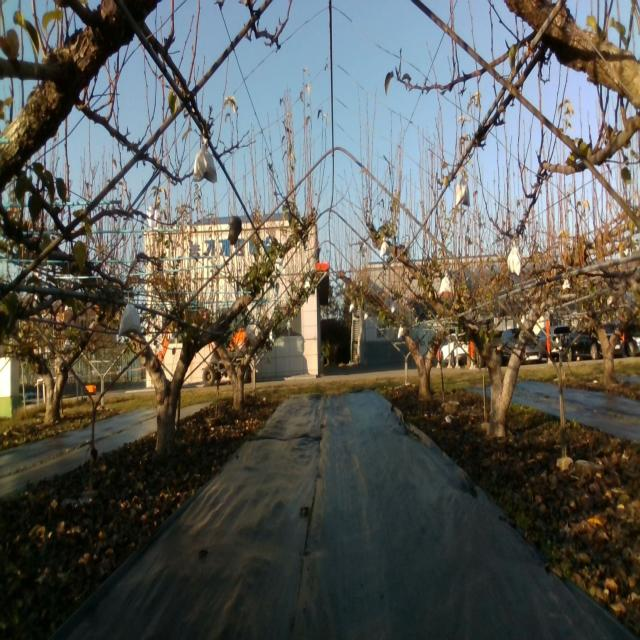pearbags: (193, 138, 218, 183), (116, 299, 142, 340), (456, 175, 470, 208), (507, 248, 521, 277), (439, 271, 451, 294)
